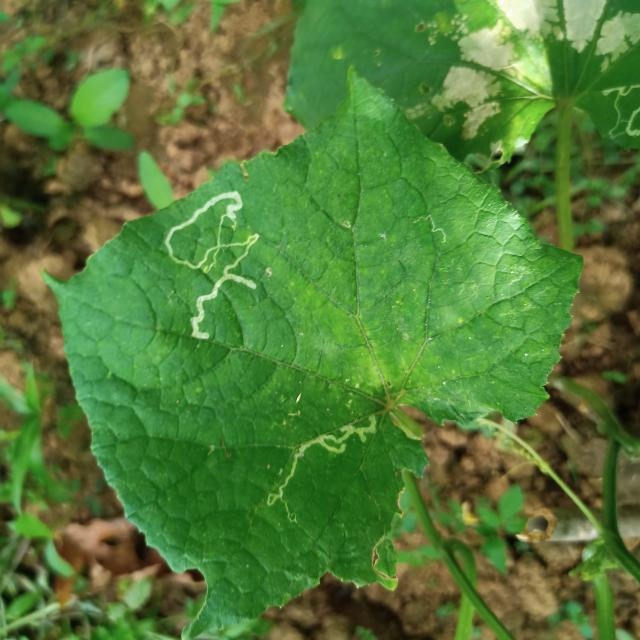disease_cucumber: (417, 3, 640, 139)
